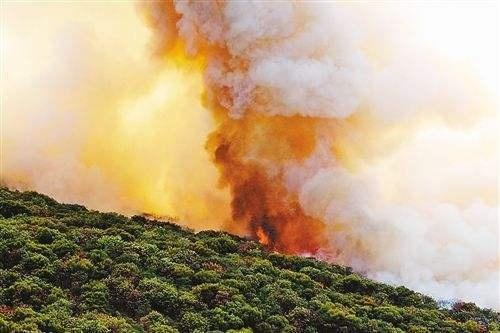fire: (226, 196, 293, 253)
